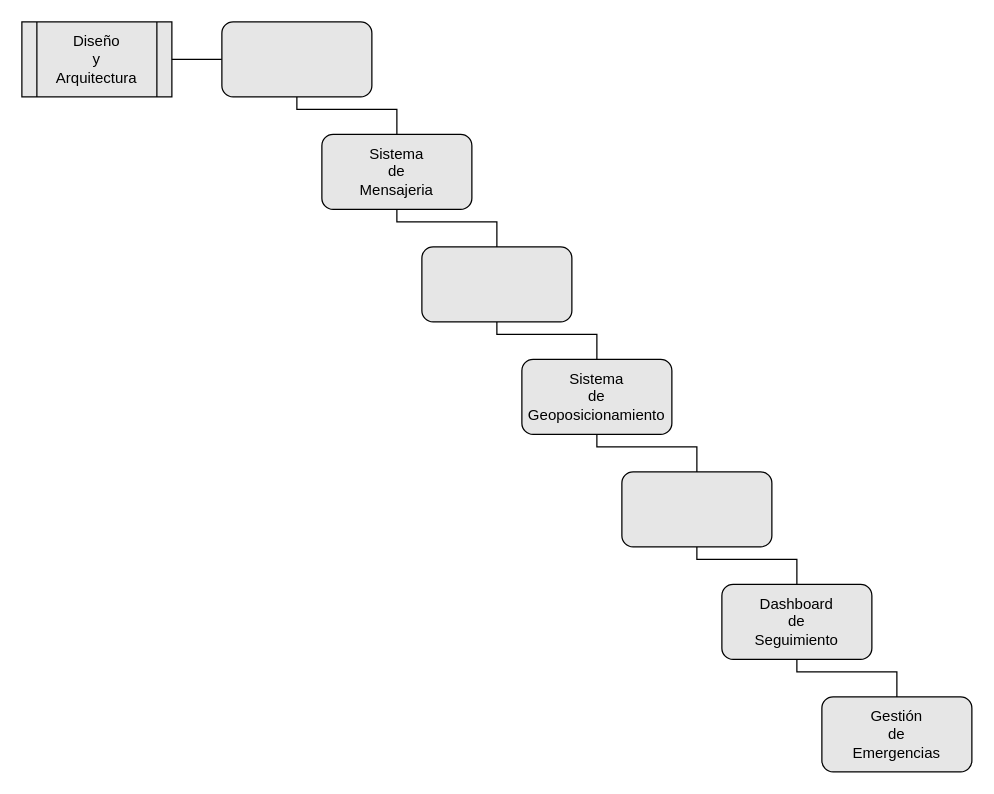
Some shapes in this 994 by 794 pixel diagram are drawn without their labels. The shapes that lost their labels are listed below. From the top down, each one's centre as x and y in pixels, then its label:
At (x=296, y=59): "Integración con los Sistemas centrales".
At (x=496, y=284): "Gestión de Usuarios".
At (x=696, y=509): "App de Avisos y Mensajeria".
